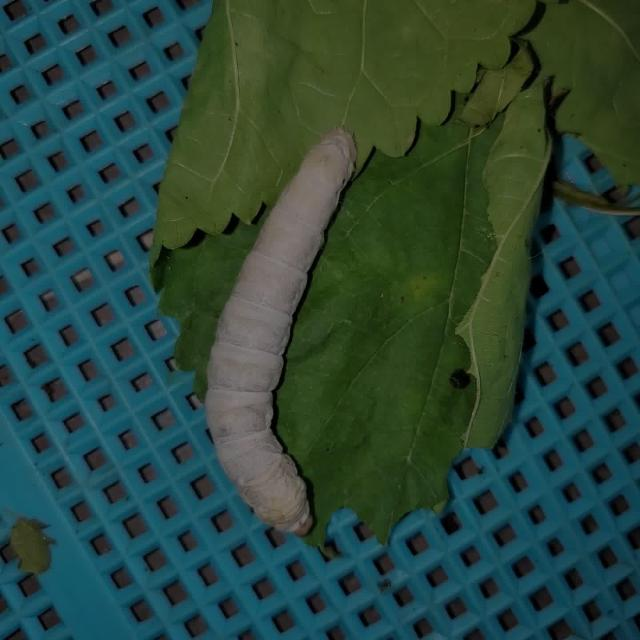Grasserie: (184, 119, 389, 551)
